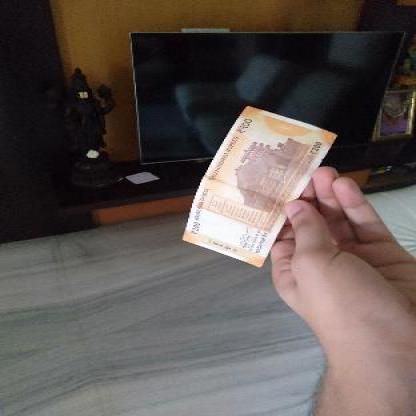New200Back: (184, 106, 341, 266)
